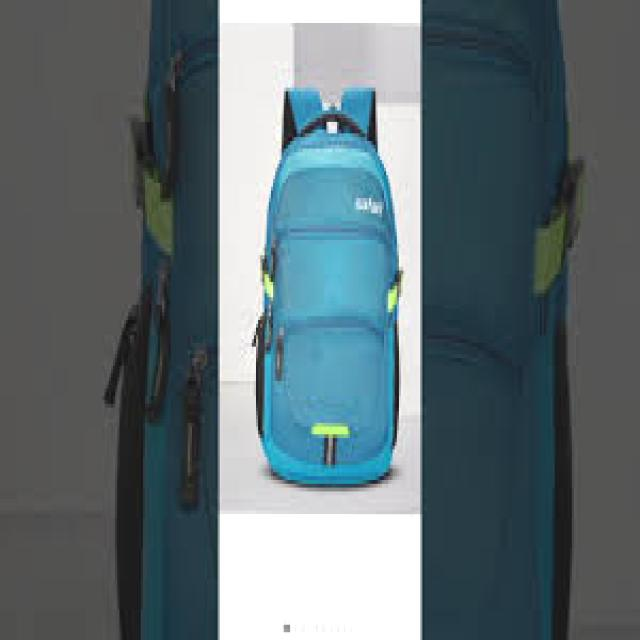backpack: (253, 85, 405, 485)
